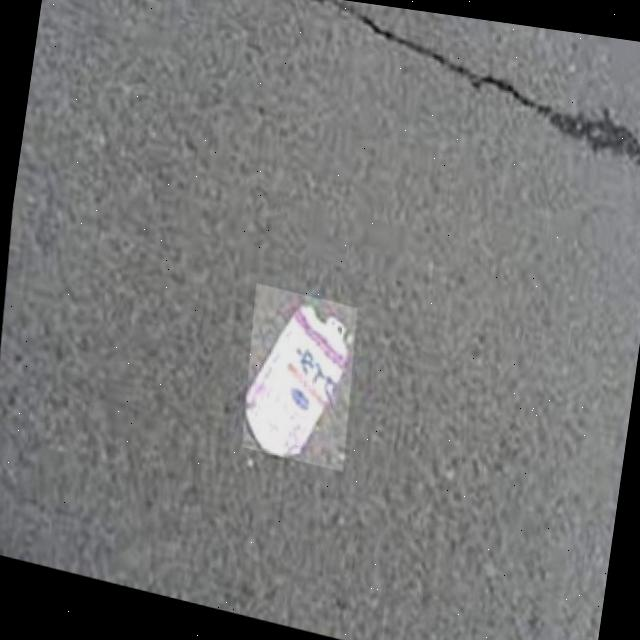trash: (227, 292, 360, 478)
